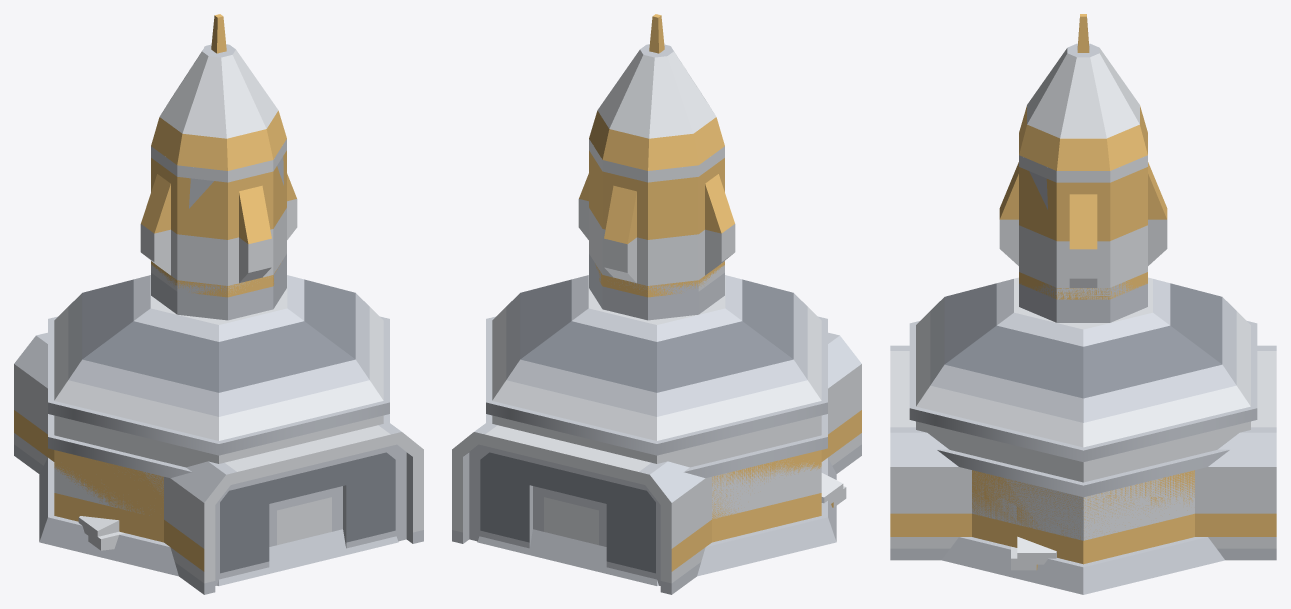
File: scifi.glb
The picture shows the model from 3 angles, left to right: view 1: azimuth 30°, elevation 25°; view 2: azimuth 150°, elevation 25°; view 3: azimuth 270°, elevation 25°; orthographic projection.
Parts seen in each view (by area): view 1: sci_hangar_round_B, rocket_sidesB, gate, Mesh hangar_largeB, Mesh hangar_largeA, rocket_topA, sci_hangar_round_glass, sci_hangar_round_A, rocket_fuelA, rocket_topB, rocket_fuelB, sci_speeder_D (+1 smaller); view 2: sci_hangar_round_B, rocket_sidesB, gate, Mesh hangar_largeB, rocket_topA, sci_hangar_round_glass, Mesh hangar_largeA, sci_hangar_round_A, rocket_fuelA, rocket_topB, rocket_fuelB; view 3: sci_hangar_round_B, rocket_sidesB, Mesh hangar_largeB, sci_hangar_round_A, rocket_topA, sci_hangar_round_glass, Mesh hangar_largeA, rocket_fuelA, rocket_fuelB, rocket_topB, sci_speeder_D.
Part boxes in pixels (left/top/right/bottom): sci_hangar_round_B: left=48, top=275, right=389, bottom=539; rocket_sidesB: left=140, top=139, right=297, bottom=285; gate: left=215, top=444, right=406, bottom=585; Mesh hangar_largeB: left=14, top=332, right=423, bottom=594; Mesh hangar_largeA: left=14, top=364, right=423, bottom=594; rocket_topA: left=151, top=44, right=286, bottom=170; sci_hangar_round_glass: left=39, top=458, right=398, bottom=585; sci_hangar_round_A: left=48, top=414, right=389, bottom=541; rocket_fuelA: left=151, top=261, right=280, bottom=320; rocket_topB: left=153, top=14, right=281, bottom=160; rocket_fuelB: left=151, top=254, right=286, bottom=317; sci_speeder_D: left=78, top=516, right=119, bottom=541; sci_hangar_round_B: left=486, top=275, right=827, bottom=536; rocket_sidesB: left=578, top=139, right=735, bottom=285; gate: left=469, top=444, right=660, bottom=585; Mesh hangar_largeB: left=452, top=332, right=861, bottom=594; rocket_topA: left=589, top=44, right=724, bottom=170; sci_hangar_round_glass: left=477, top=458, right=836, bottom=585; Mesh hangar_largeA: left=452, top=364, right=861, bottom=594; sci_hangar_round_A: left=486, top=414, right=827, bottom=541; rocket_fuelA: left=595, top=261, right=724, bottom=320; rocket_topB: left=594, top=14, right=722, bottom=160; rocket_fuelB: left=589, top=254, right=724, bottom=318; sci_hangar_round_B: left=909, top=277, right=1257, bottom=564; rocket_sidesB: left=999, top=155, right=1167, bottom=287; Mesh hangar_largeB: left=890, top=345, right=1276, bottom=560; sci_hangar_round_A: left=937, top=449, right=1229, bottom=554; rocket_topA: left=1019, top=43, right=1147, bottom=170; sci_hangar_round_glass: left=942, top=537, right=1224, bottom=594; Mesh hangar_largeA: left=890, top=467, right=1276, bottom=543; rocket_fuelA: left=1019, top=272, right=1147, bottom=322; rocket_fuelB: left=1019, top=281, right=1147, bottom=322; rocket_topB: left=1021, top=14, right=1145, bottom=160; sci_speeder_D: left=1017, top=536, right=1056, bottom=564.
Bounding box in the file's own units: 3.27 × 4.3 × 3.
